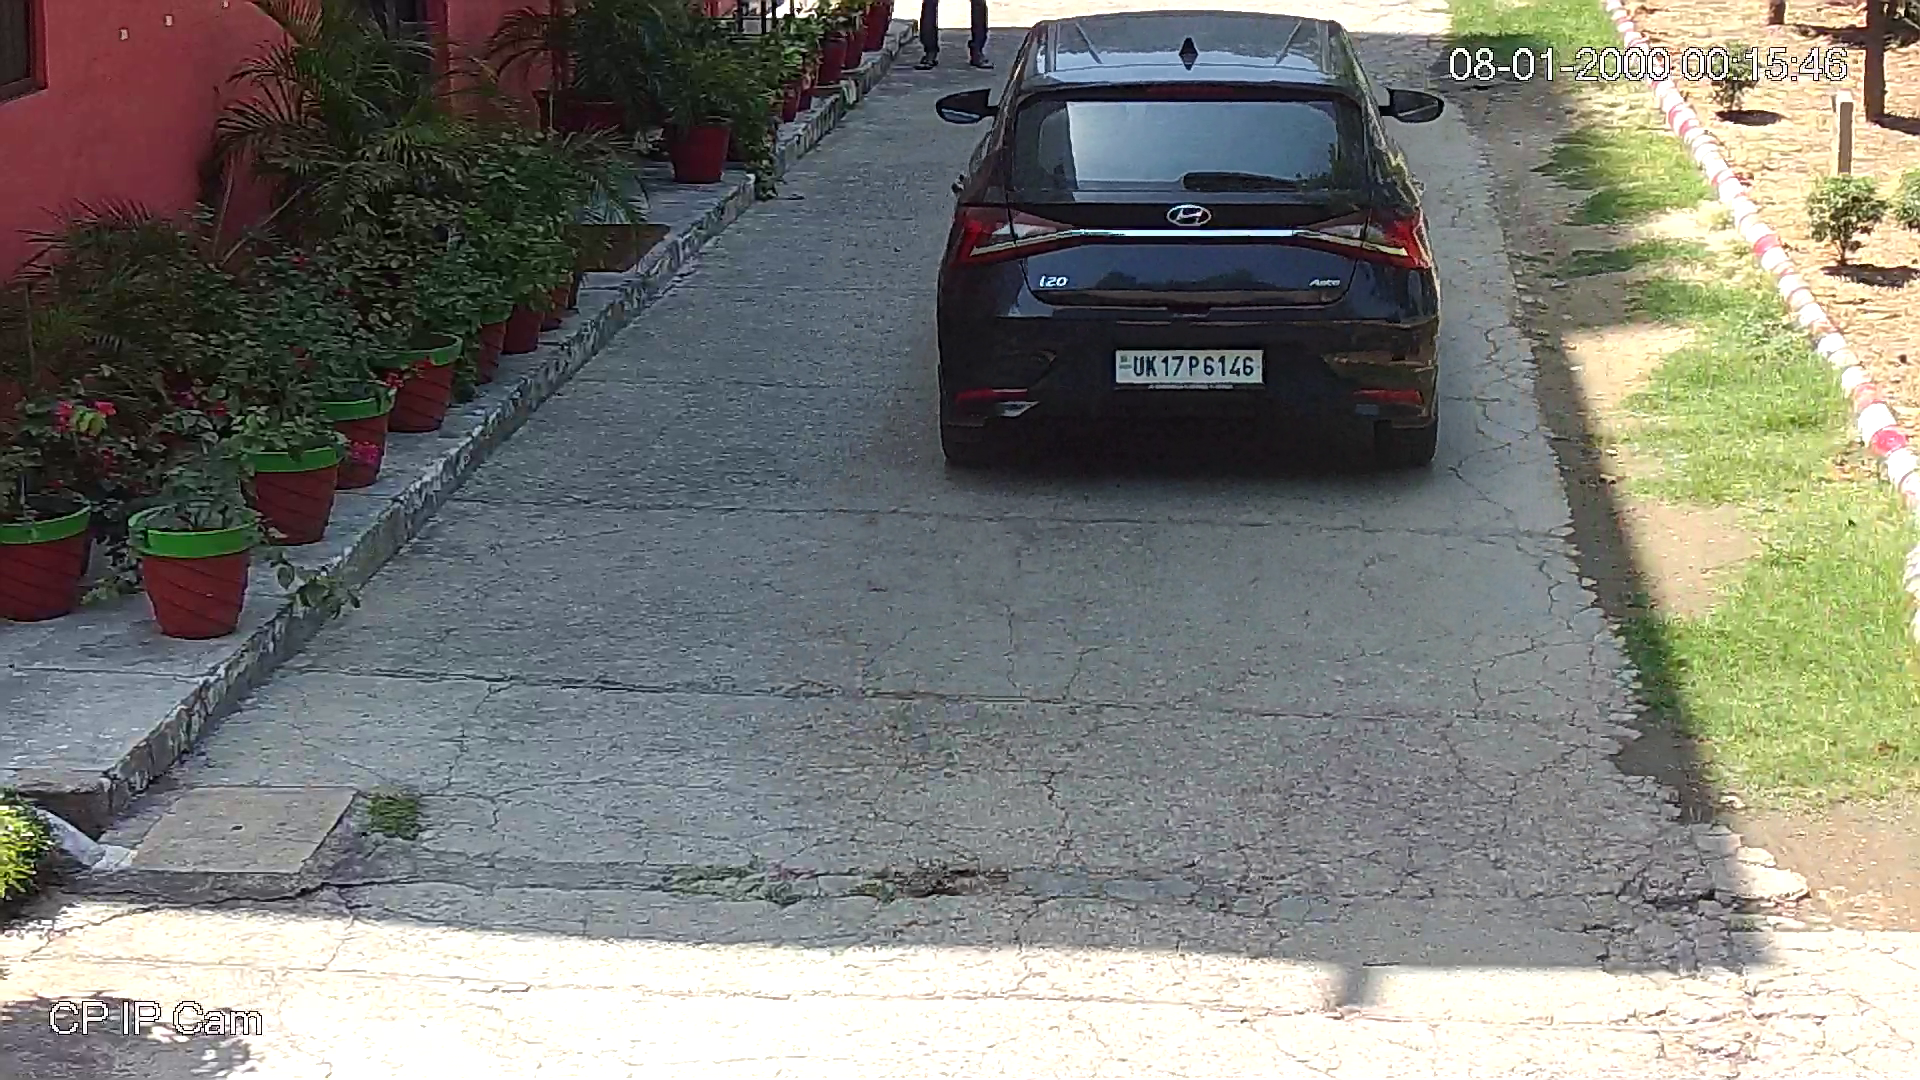plate: (1108, 340, 1267, 394)
